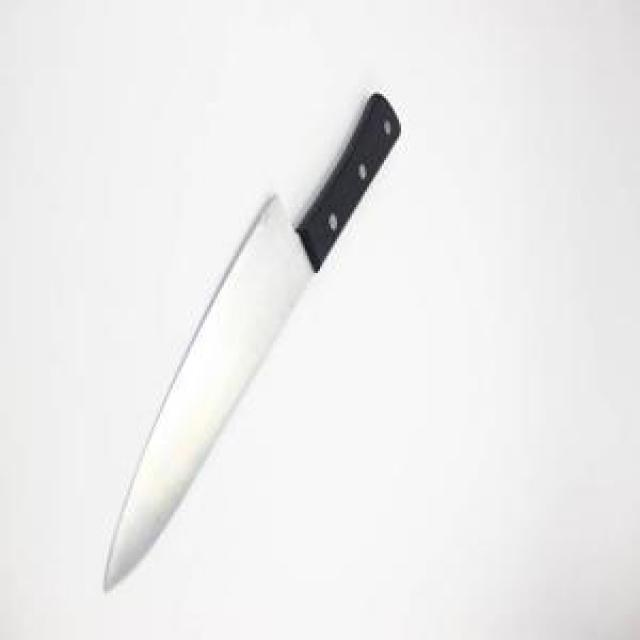knife: (105, 85, 403, 594)
